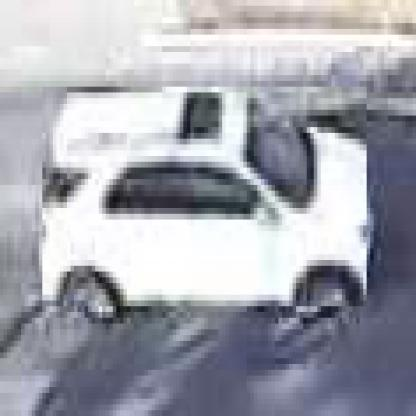car: (40, 88, 368, 313)
